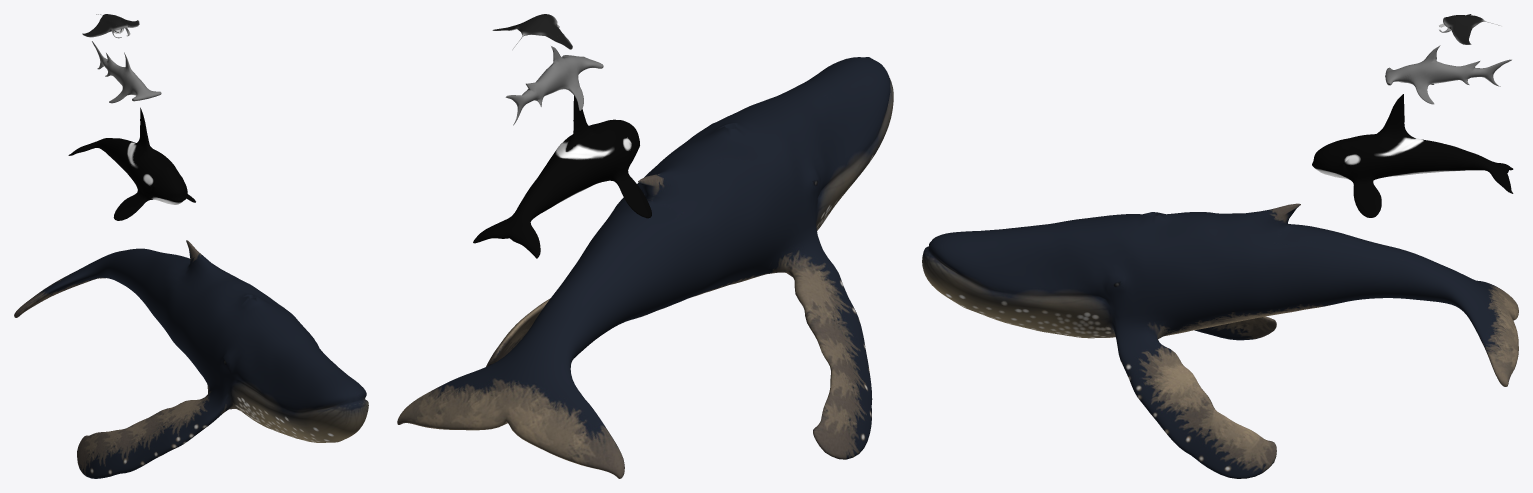
The model's file is sea_creatures.glb.
3 renders of one model, left to right at view 1: azimuth 30°, elevation 25°; view 2: azimuth 150°, elevation 25°; view 3: azimuth 270°, elevation 25°, orthographic. The views are drawn at different scales.
Parts seen in each view (by area): view 1: Baleia_comum, Orca, hammerhead_shark, Arraia_Jamanta; view 2: Baleia_comum, Orca, hammerhead_shark, Arraia_Jamanta; view 3: Baleia_comum, Orca, hammerhead_shark, Arraia_Jamanta.
Part boxes in pixels (bbox=[...]): Baleia_comum: bbox=[14, 240, 368, 478]; Orca: bbox=[68, 107, 195, 220]; hammerhead_shark: bbox=[92, 41, 161, 103]; Arraia_Jamanta: bbox=[82, 14, 139, 38]; Baleia_comum: bbox=[397, 57, 893, 478]; Orca: bbox=[473, 95, 651, 258]; hammerhead_shark: bbox=[505, 46, 603, 125]; Arraia_Jamanta: bbox=[492, 14, 572, 50]; Baleia_comum: bbox=[922, 203, 1518, 478]; Orca: bbox=[1312, 94, 1513, 217]; hammerhead_shark: bbox=[1385, 45, 1511, 104]; Arraia_Jamanta: bbox=[1439, 14, 1500, 44].
Bounding box in the file's own units: 10.12 × 13.23 × 18.19.
4 materials, 4 textured.
